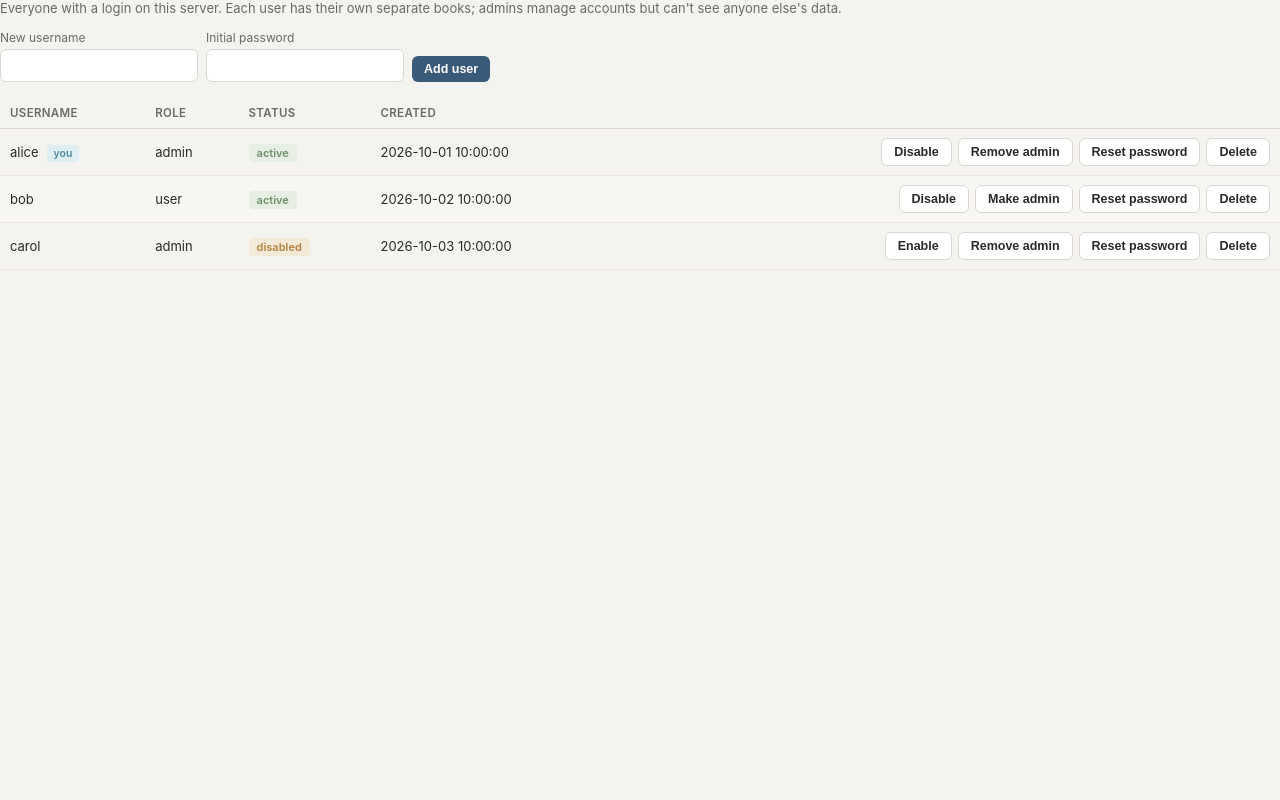
Scenario: resets a password from masked password and confirmation fields
Click the button "Reset password" in the row of "bob" at (1140, 199), box [1079, 185, 1200, 213]
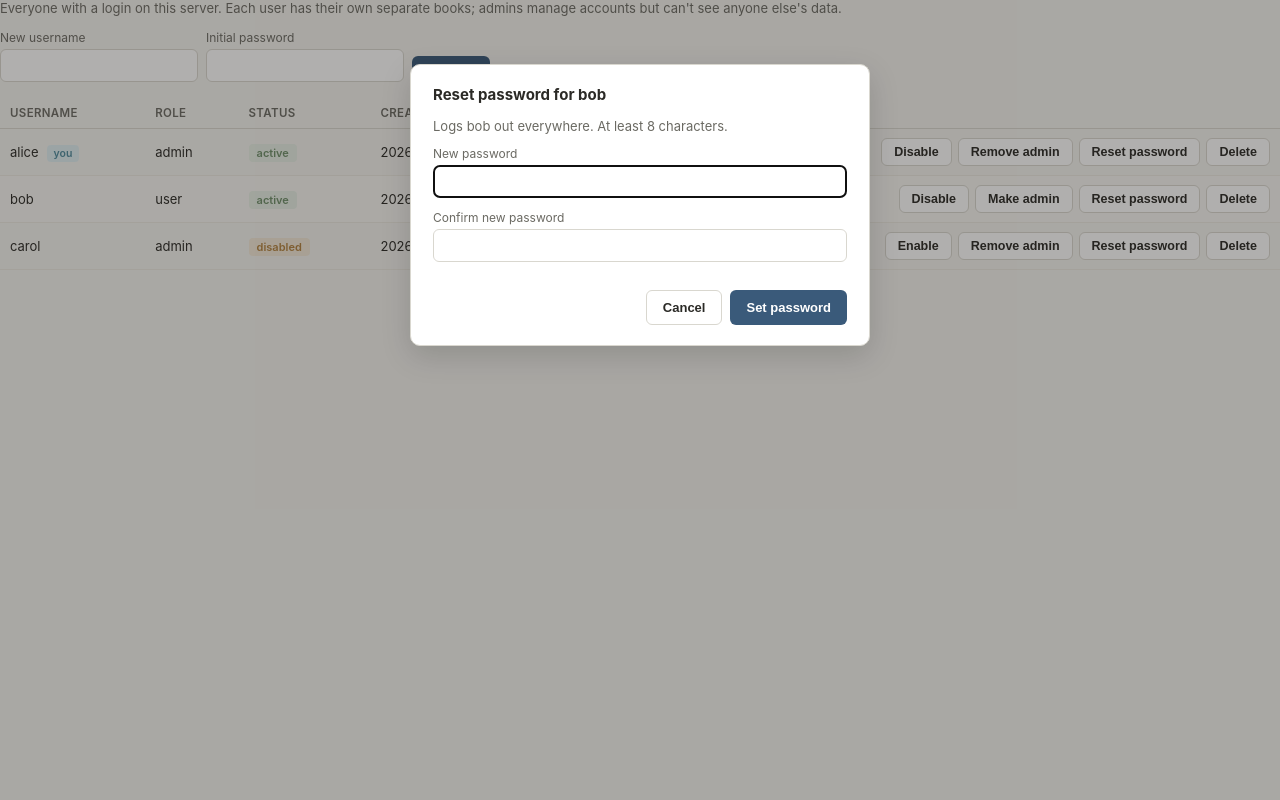
Expected: the heading "Reset password for bob" is shown, [433, 85, 606, 104]
Expected: the button "Set password" is disabled, [730, 290, 847, 325]
Type "brand-new-pw" into the password field labelled "New password" at (640, 182), box [433, 165, 847, 198]
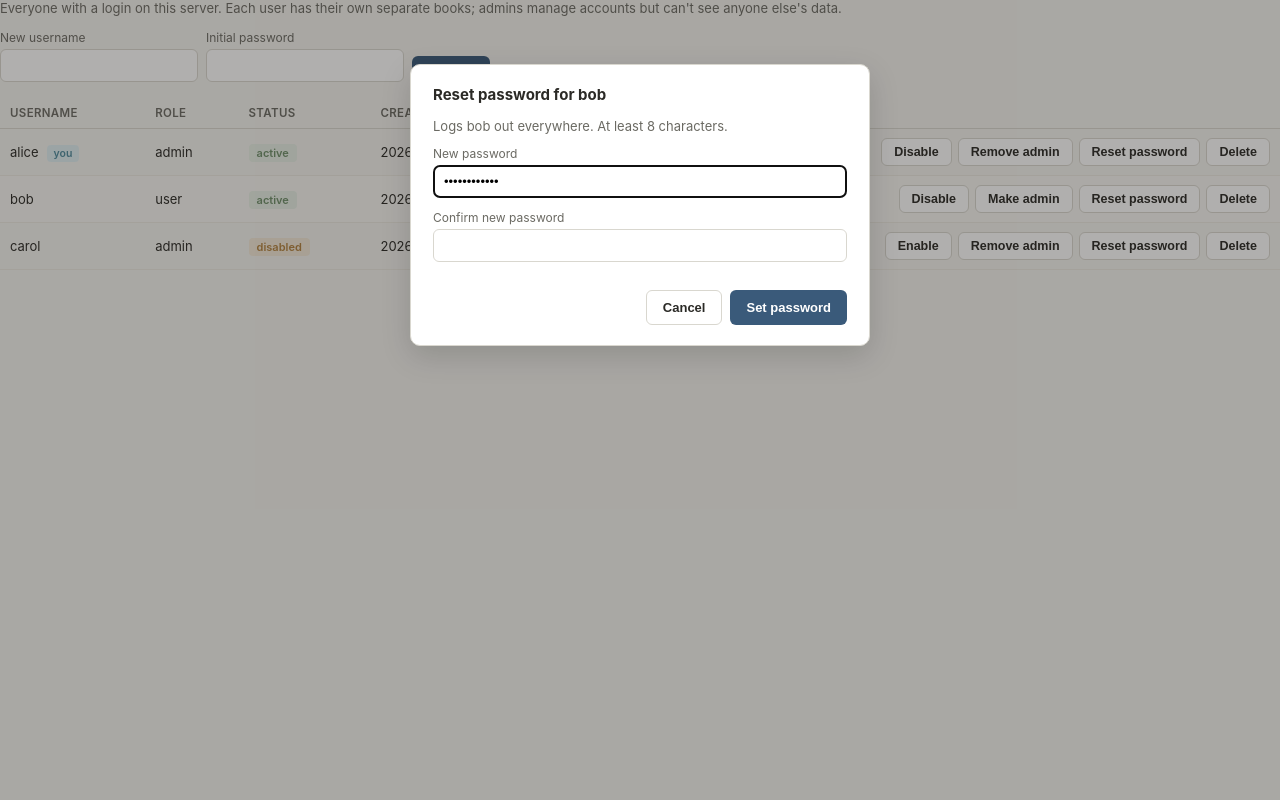
Type "brand-new-pw" into the password field labelled "Confirm new password" at (640, 246), box [433, 229, 847, 262]
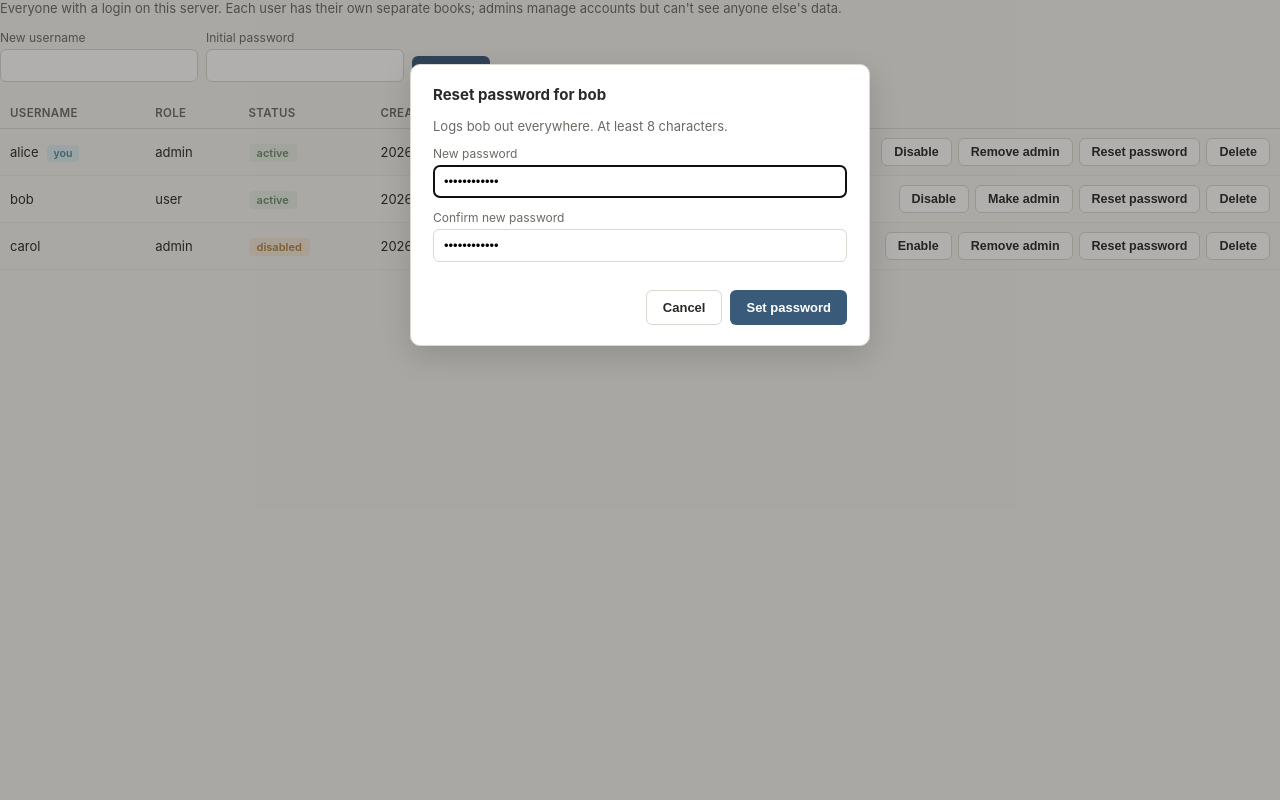
Click the button "Set password" at (789, 308), box [730, 290, 847, 325]
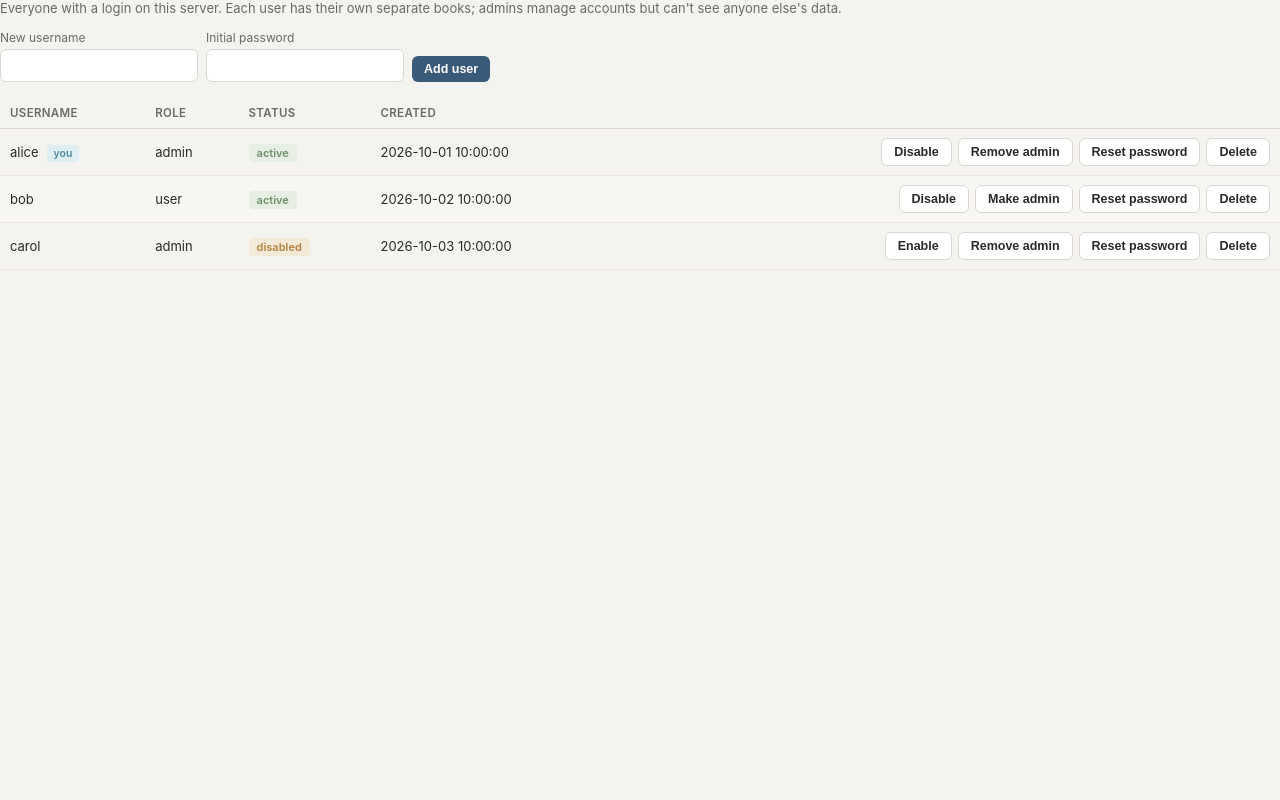
Expected: the heading "Reset password for bob" is gone
